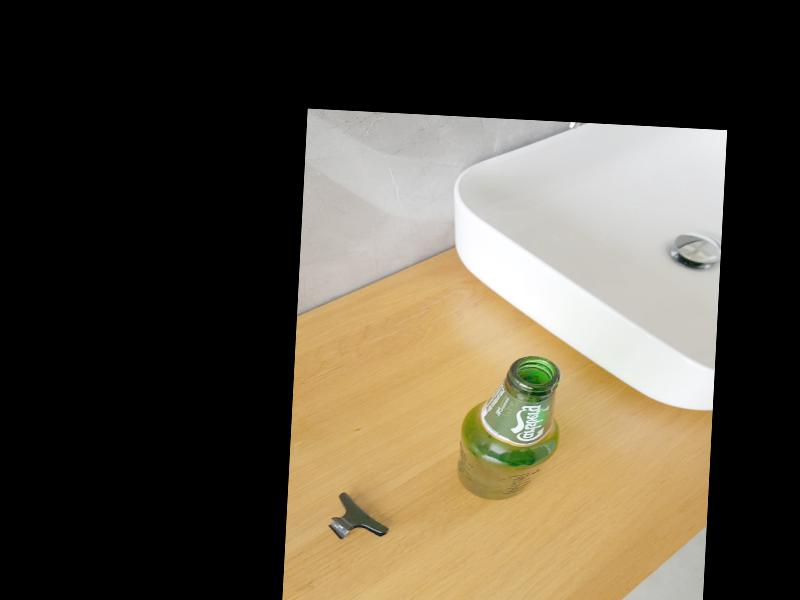Beer: (457, 353, 561, 504)
